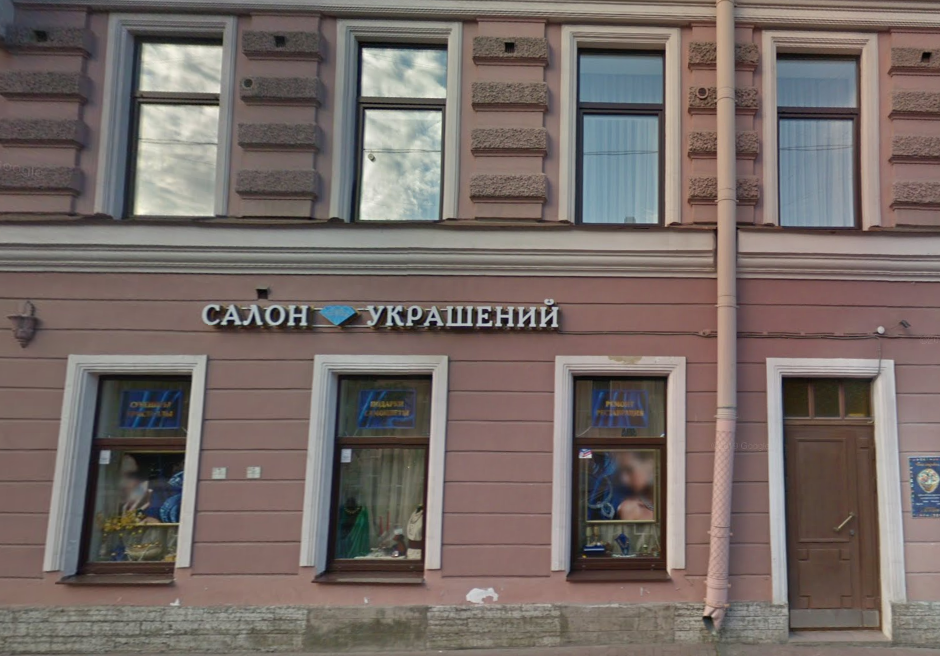door: (784, 418, 881, 629)
signboard: (201, 297, 564, 330)
window: (82, 372, 195, 567), (342, 41, 443, 226), (120, 34, 218, 220), (574, 371, 666, 564), (337, 375, 424, 572), (575, 52, 666, 226), (778, 55, 860, 224)
